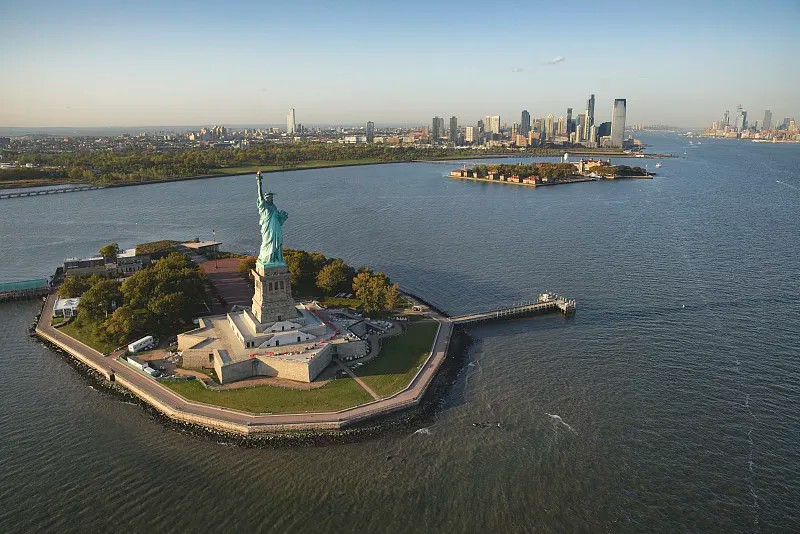SL: (251, 170, 296, 324)
